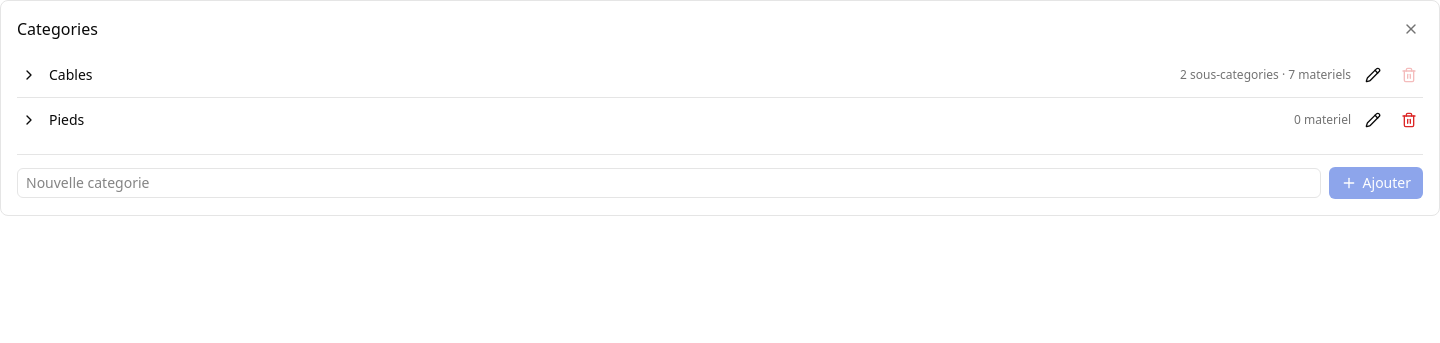
Test case: CategoriesPanel › hides sub-categories until the category is expanded
Expected: the text "Cables" is shown, [49,65,92,84]
Expected: the text "VGA/HDMI" is not shown
Click the button named "Deplier Cables". click: (29, 75)
box: [17,63,41,87]
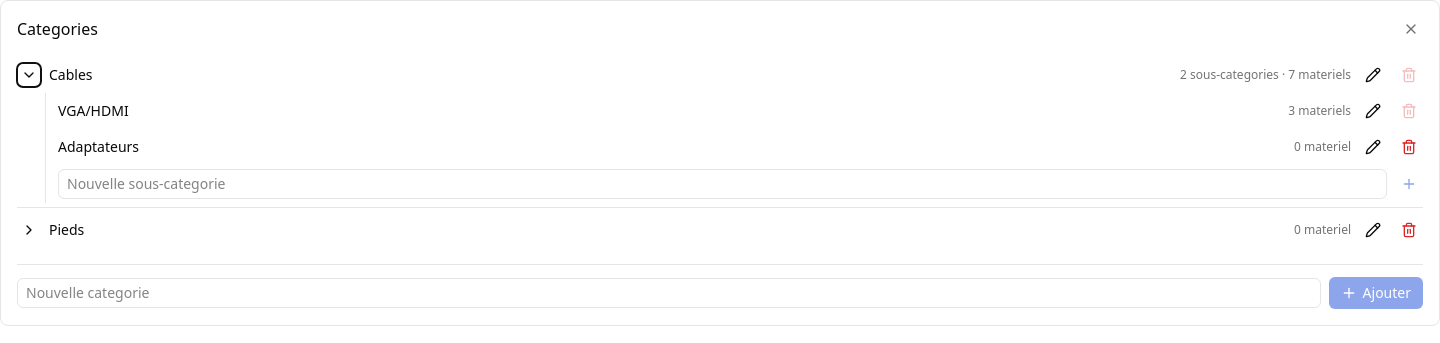
Now the text "VGA/HDMI" is shown, box [58,101,129,120]
Now the text "Adaptateurs" is shown, box [58,137,139,156]
